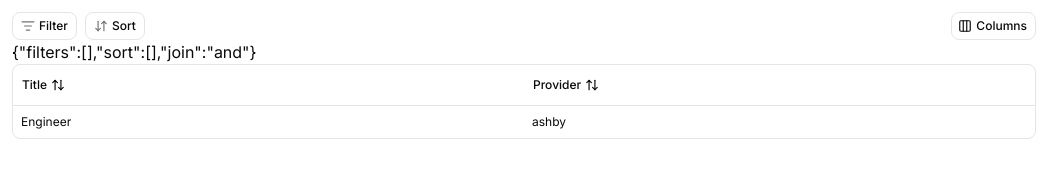
Test case: sorts on a header click, adds Shift-click sorts and reserves its menu for right-click or Shift+F10
Later steps or results of the test are not shown.
Click the button "Title" at (42, 85), box top-left (13, 71), bottom-right (72, 99)
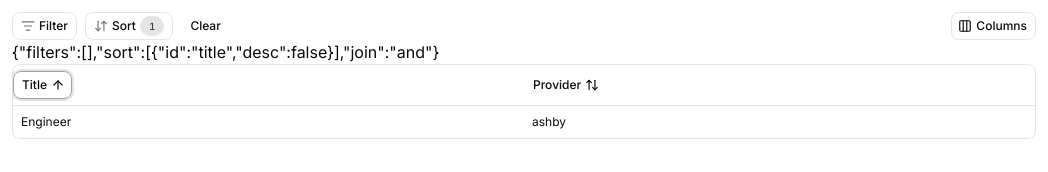
Now the column heading "Title" has attribute aria-sort="ascending", box top-left (13, 65), bottom-right (524, 105)
